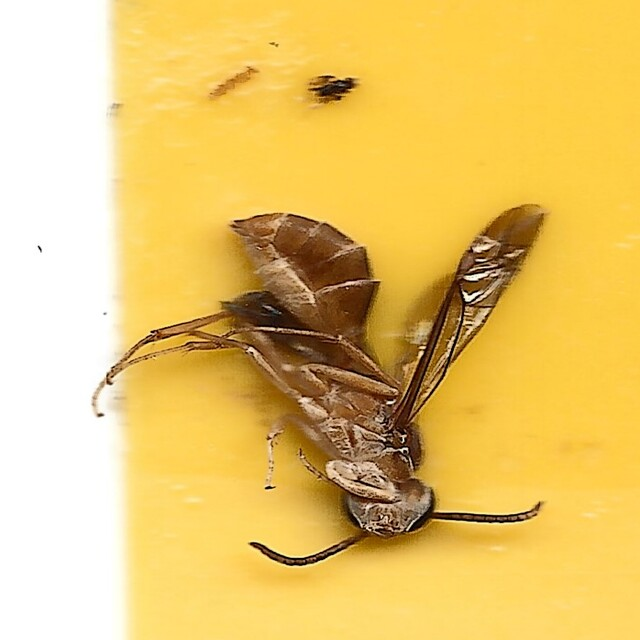Brachycera: (303, 73, 361, 111)
Hymenoptera: (92, 201, 548, 567)
